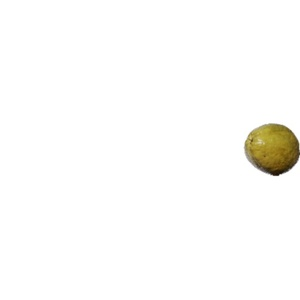goiaba: (241, 121, 299, 181)
